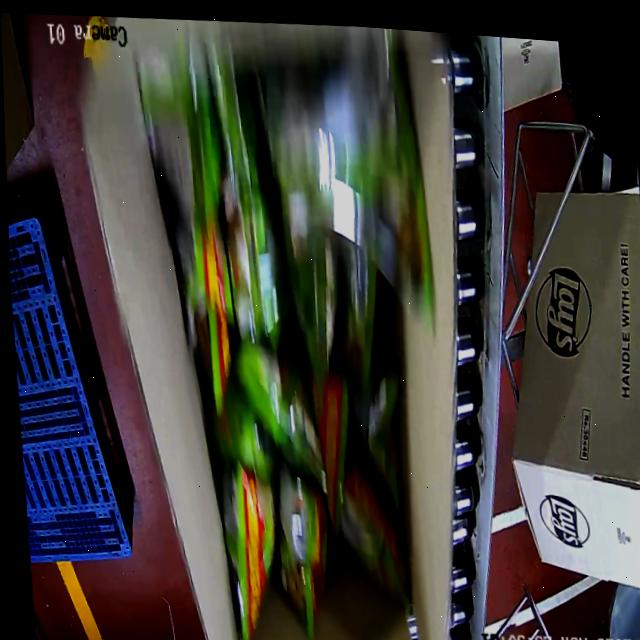YOGURT_HERB: (152, 62, 433, 627)
